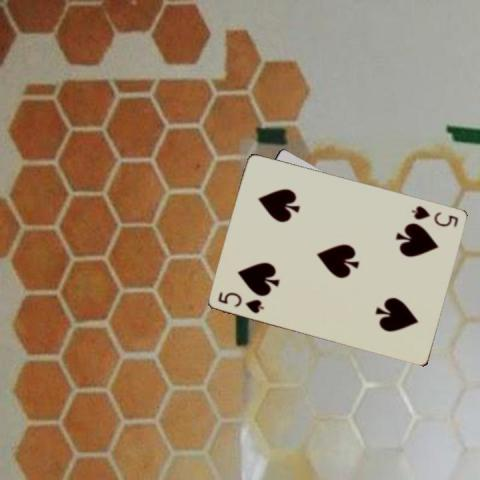5s: (215, 288, 266, 314), (409, 203, 460, 228)
